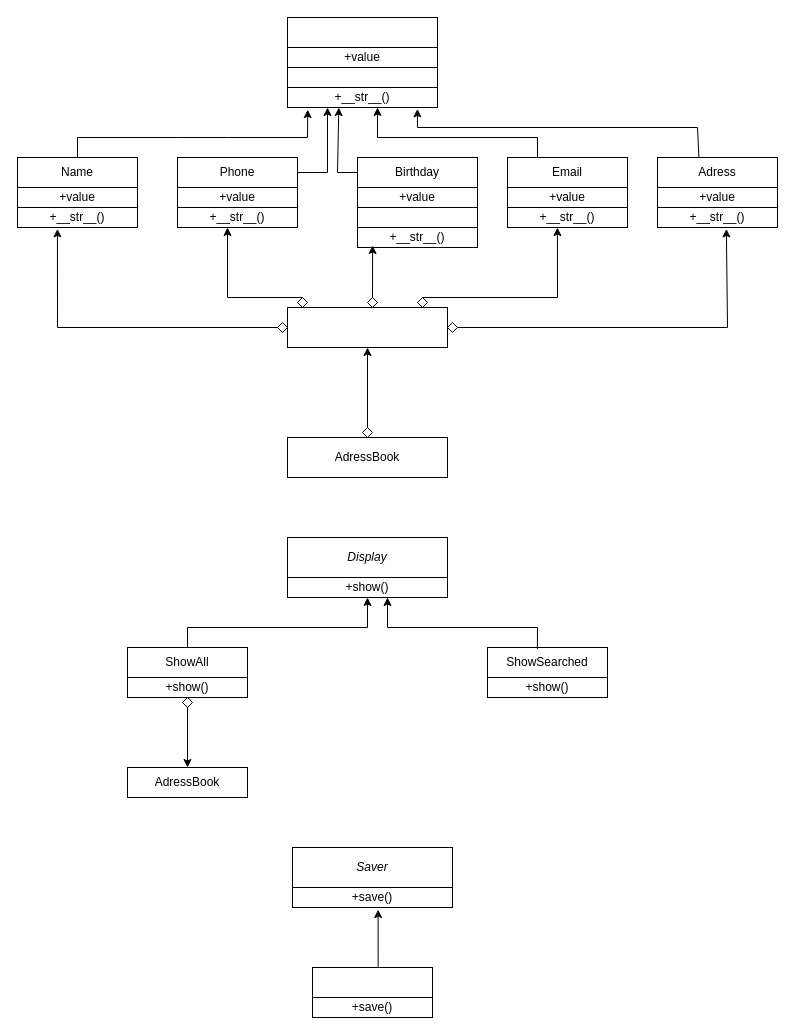
Image size: 795x1035. Some labels were removed from this diagram. The centre of each missing label's shape, as x and y in pixels:
"+valid_date()" goes at [417,217].
"-value" goes at [362,77].
"Field" goes at [362,32].
"PickleSaver" goes at [372,982].
"Record" goes at [367,327].
